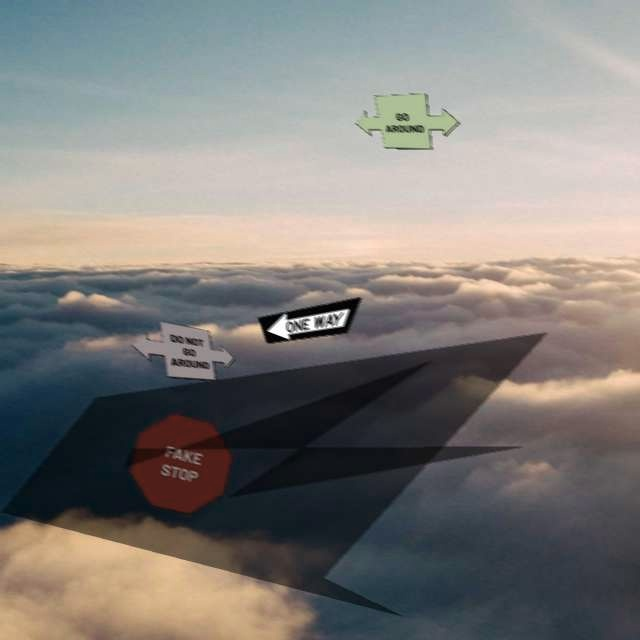DO_NOT_GO_AROUND: (130, 320, 234, 380)
FAKE_STOP: (129, 412, 233, 514)
GO_AROUND: (355, 92, 459, 149)
ONE_WAY_ left: (257, 296, 361, 343)
